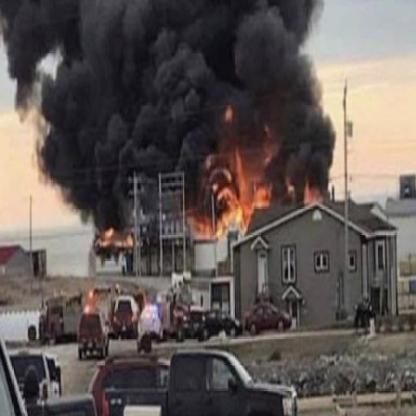fire: (187, 130, 275, 244), (95, 219, 136, 250), (299, 171, 323, 205), (224, 105, 235, 123), (285, 176, 295, 194)
